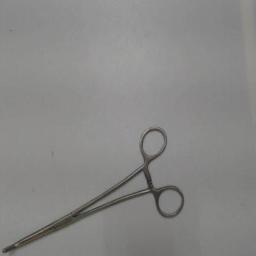Lahey Forceps: (2, 123, 188, 255)
